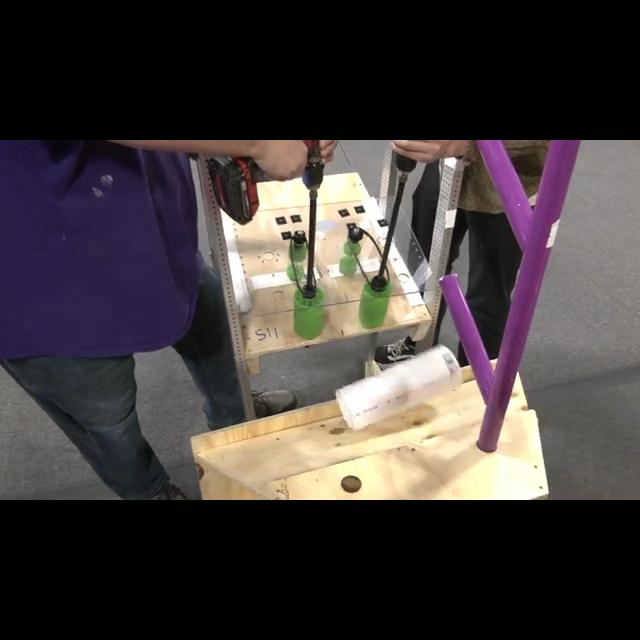CORAL: (334, 342, 462, 430)
